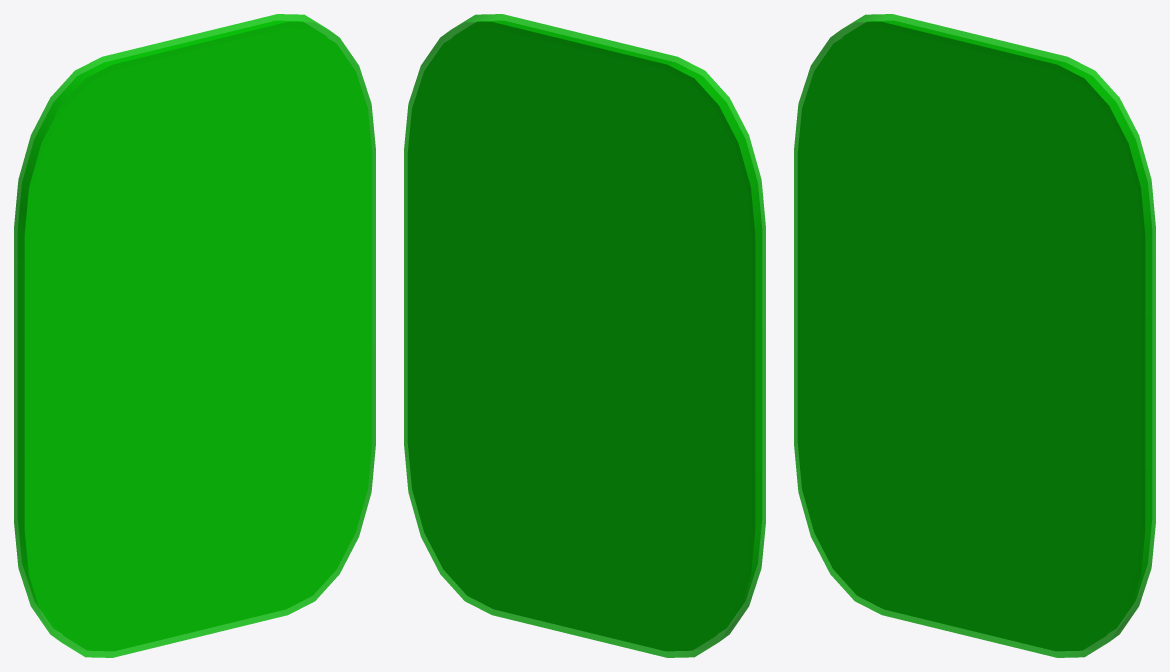
The model's file is screenGreen.fbx.
3 renders of one model, left to right at view 1: azimuth 30°, elevation 25°; view 2: azimuth 150°, elevation 25°; view 3: azimuth 330°, elevation 25°, orthographic.
Parts seen in each view (by area): view 1: greenScreen; view 2: greenScreen; view 3: greenScreen.
Boxes of the visible parts, bbox=[...] form: greenScreen: bbox=[14, 14, 375, 657]; greenScreen: bbox=[404, 14, 765, 657]; greenScreen: bbox=[794, 14, 1155, 657].
Bounding box in the file's own units: 2.72 × 4.4 × 0.1433.
